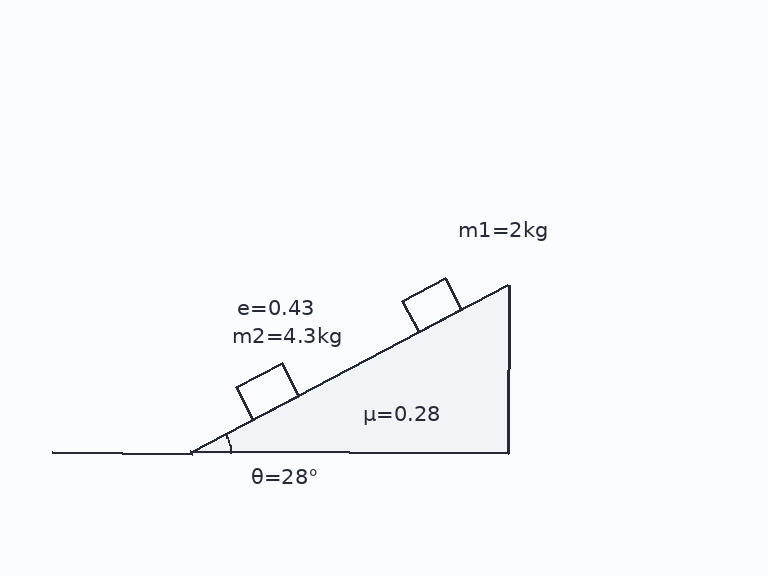block: (234, 361, 301, 422), (399, 276, 463, 334)
ramp: (189, 282, 510, 455)
